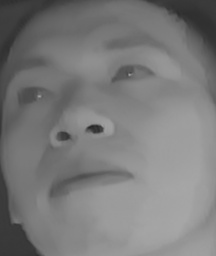eye: (110, 60, 159, 87), (12, 81, 59, 109)
mouth: (37, 159, 133, 204)
